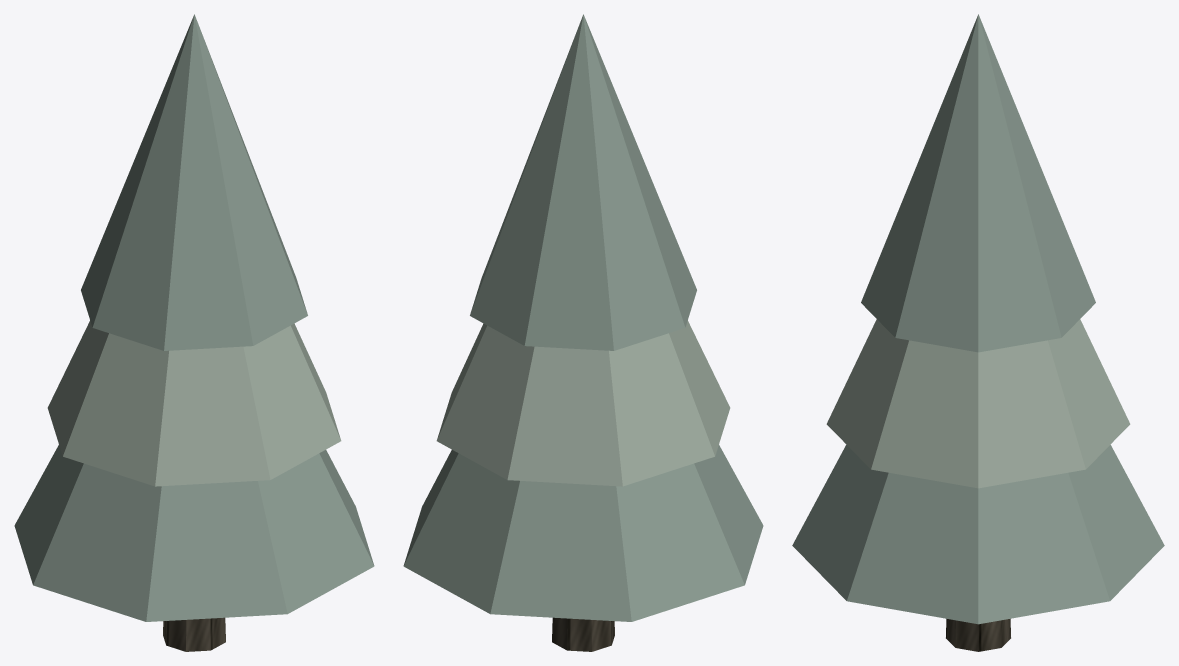
File: Pine.glb
The picture shows the model from 3 angles, left to right: view 1: azimuth 30°, elevation 25°; view 2: azimuth 150°, elevation 25°; view 3: azimuth 270°, elevation 25°; orthographic projection.
Parts seen in each view (by area): view 1: Pine crown tier, Pine crown tier.002, Pine crown tier.001, Pine trunk; view 2: Pine crown tier, Pine crown tier.002, Pine crown tier.001, Pine trunk; view 3: Pine crown tier, Pine crown tier.002, Pine crown tier.001, Pine trunk.
Boxes of the visible parts, bbox=[...] form: Pine crown tier: bbox=[14, 445, 374, 621]; Pine crown tier.002: bbox=[81, 14, 307, 350]; Pine crown tier.001: bbox=[47, 320, 341, 486]; Pine trunk: bbox=[163, 617, 225, 651]; Pine crown tier: bbox=[403, 445, 763, 621]; Pine crown tier.002: bbox=[470, 14, 696, 350]; Pine crown tier.001: bbox=[436, 320, 730, 486]; Pine trunk: bbox=[552, 617, 614, 651]; Pine crown tier: bbox=[792, 445, 1164, 624]; Pine crown tier.002: bbox=[861, 14, 1095, 352]; Pine crown tier.001: bbox=[826, 319, 1130, 488]; Pine trunk: bbox=[946, 618, 1010, 651].
Size of the model in its own units: 2.28 by 4.22 by 2.28.
3 materials, 1 textured.
